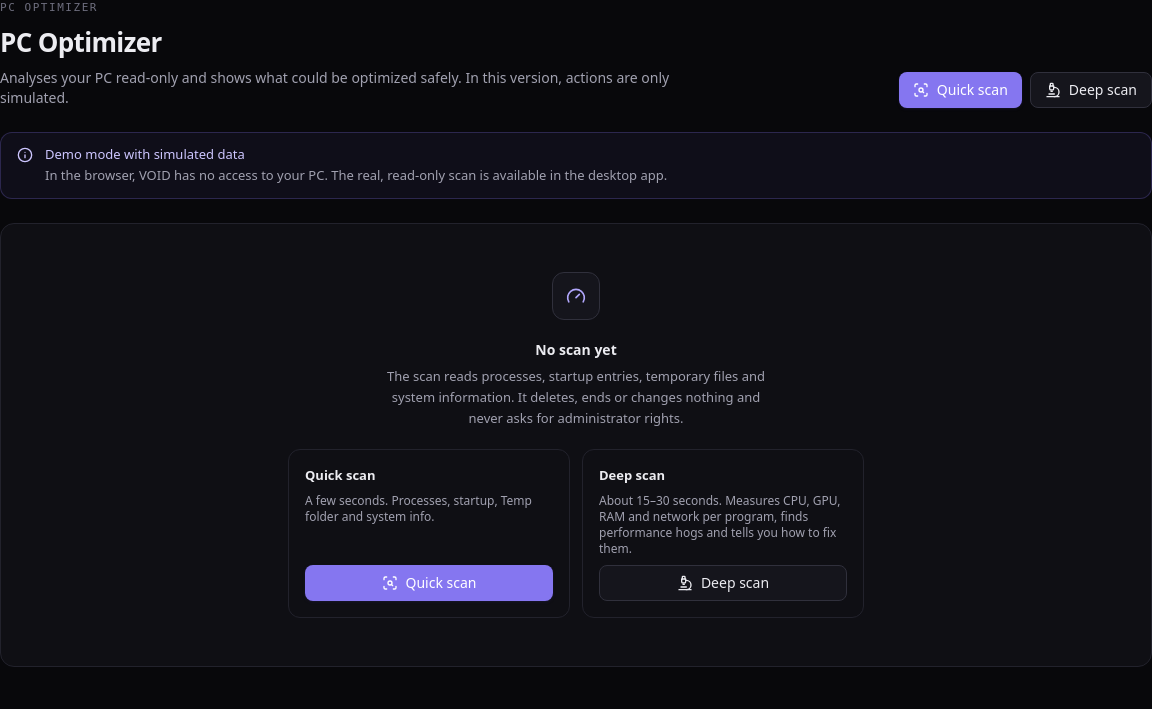
Scenario: PC Optimizer page › shows the preview with safe defaults, overlaps counted once and blocked items locked
This screenshot has width=1152, height=709.
Click the 1st button "Quick scan": {"x": 960, "y": 90} left=899, top=72, right=1022, bottom=108
(page scrolled)
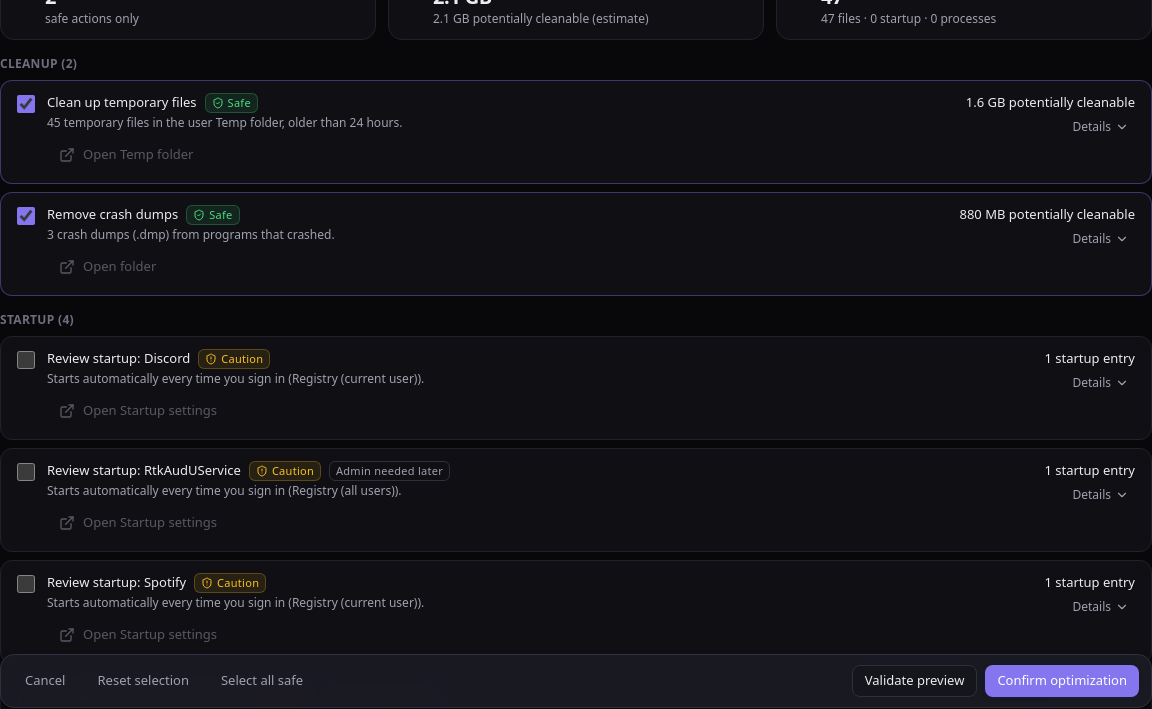
expect the checkbox labelled "Clean up temporary files" is checked: met, box left=17, top=95, right=35, bottom=113
expect the checkbox labelled "Review startup: Discord" is not checked: met, box left=17, top=351, right=35, bottom=369
expect the number of icons named "Not selectable" is 3: met
